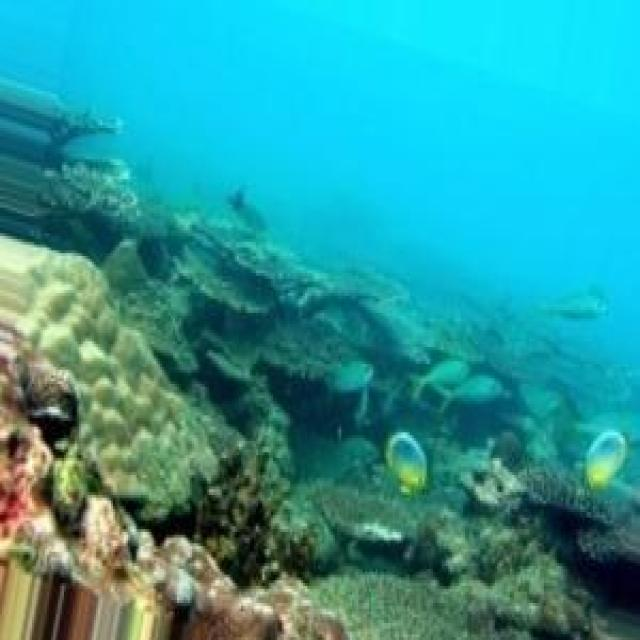bleached coral: (0, 242, 220, 526), (55, 432, 286, 594), (471, 455, 527, 498), (354, 523, 403, 543)
healthy coral: (203, 233, 416, 364), (429, 293, 619, 390), (258, 364, 382, 484), (309, 575, 529, 640), (0, 91, 90, 219), (79, 134, 203, 199)
